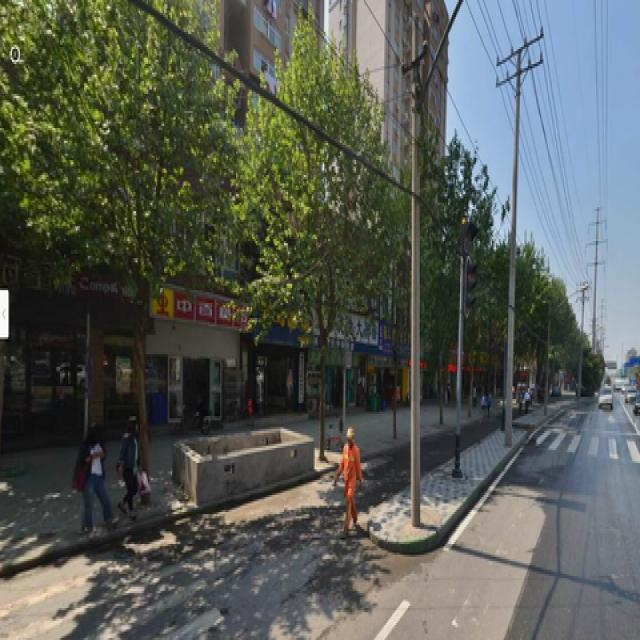meta: (42, 2, 218, 476), (275, 51, 376, 442)
